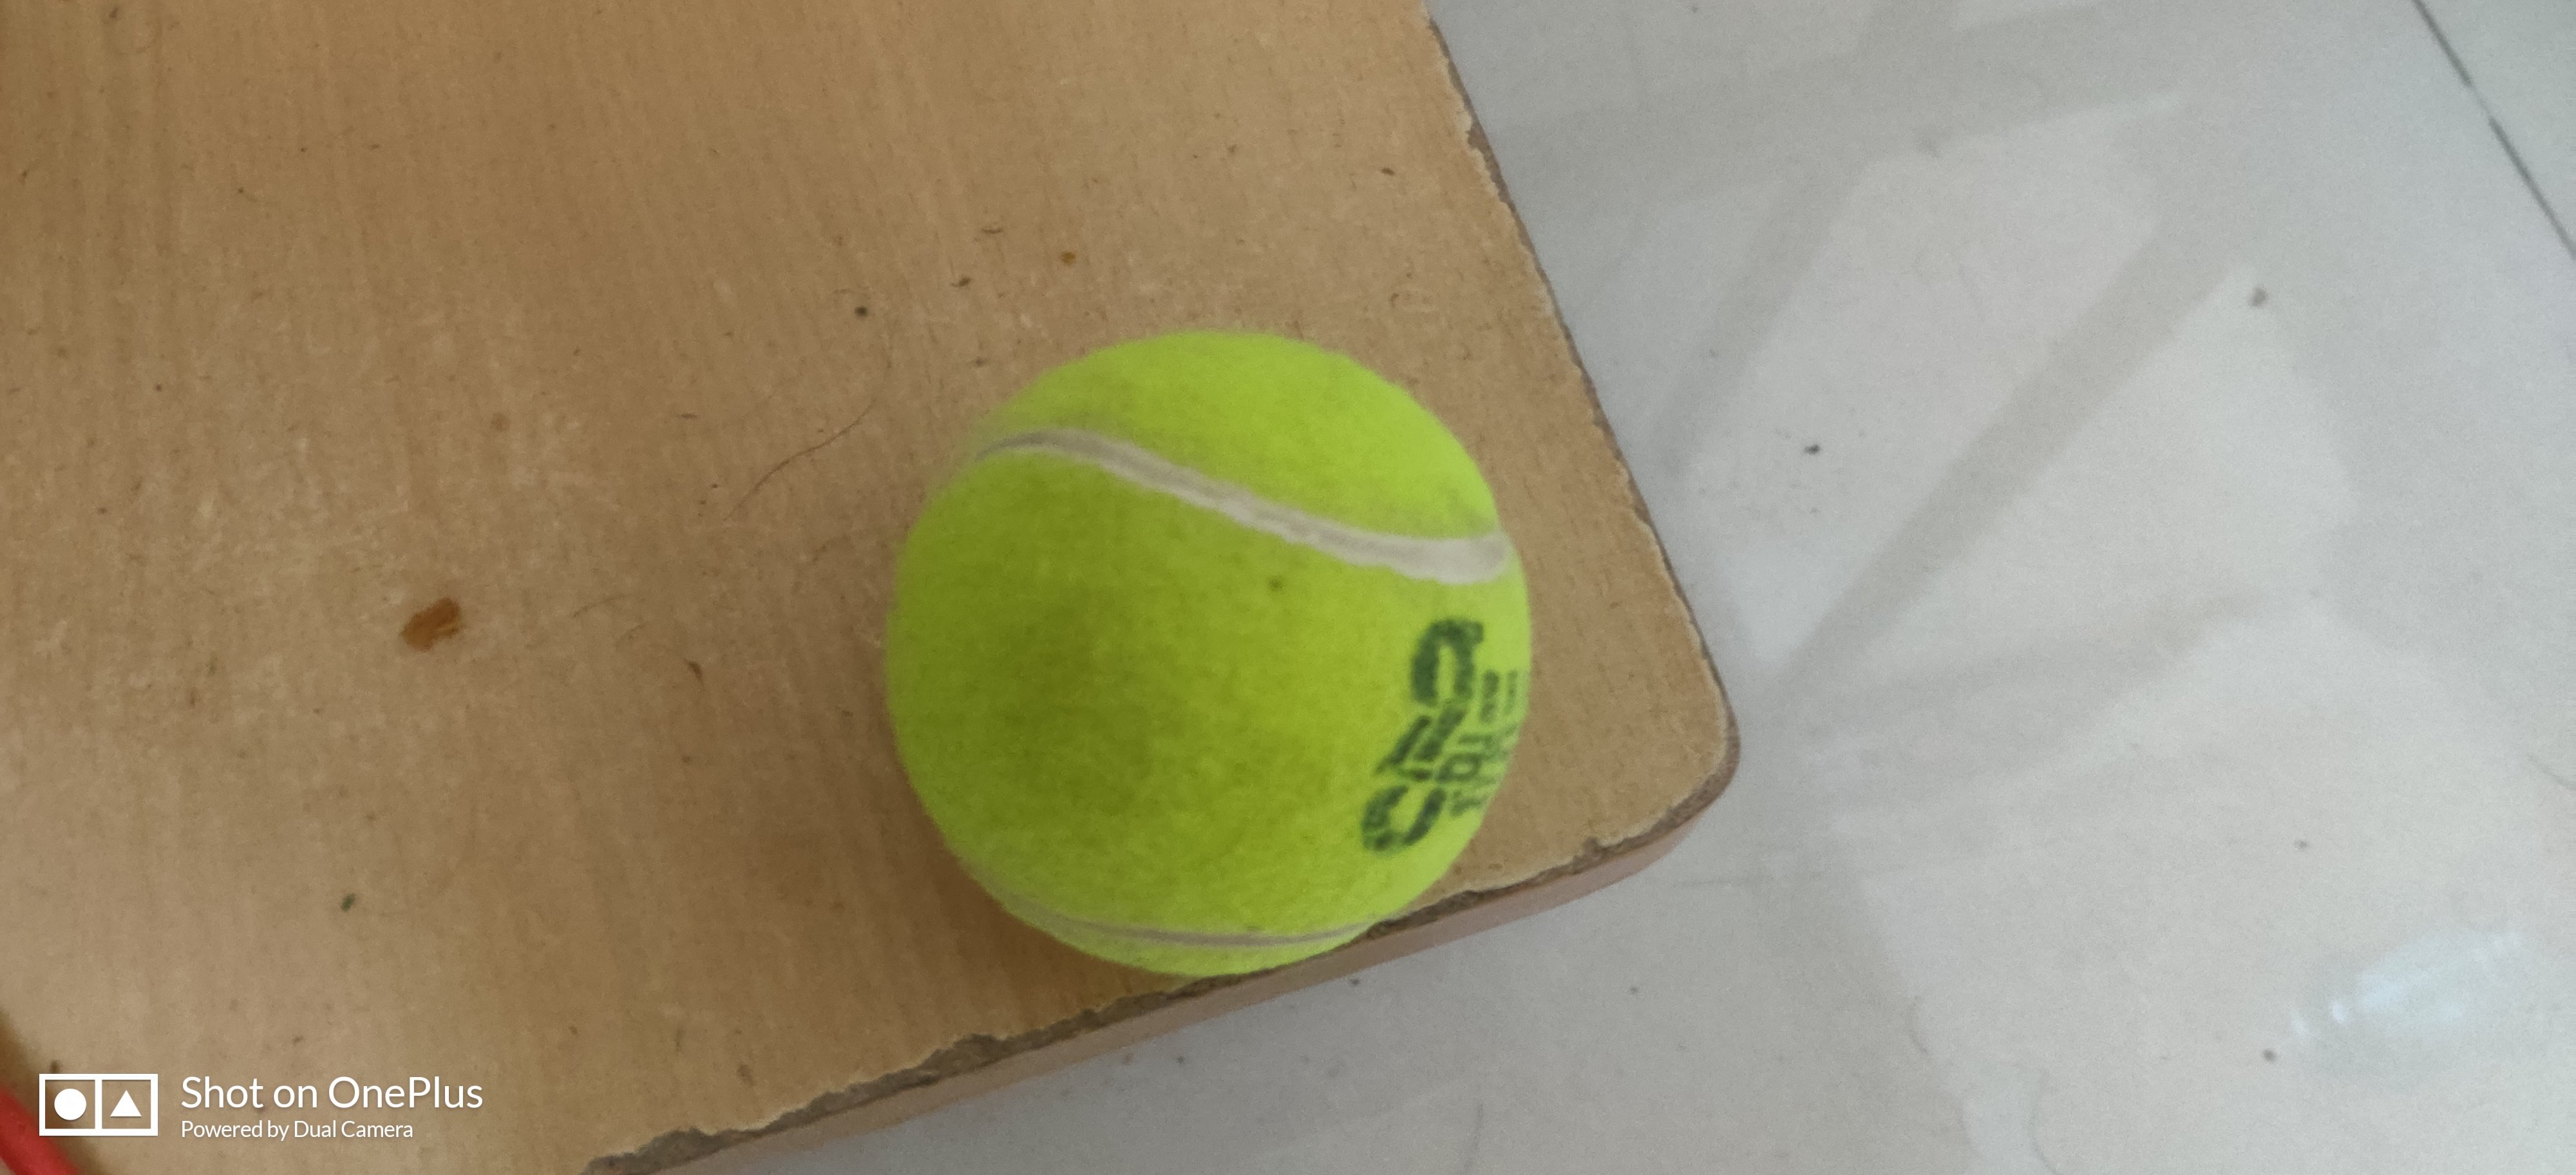Tennis-Ball: (885, 332, 1536, 978)
